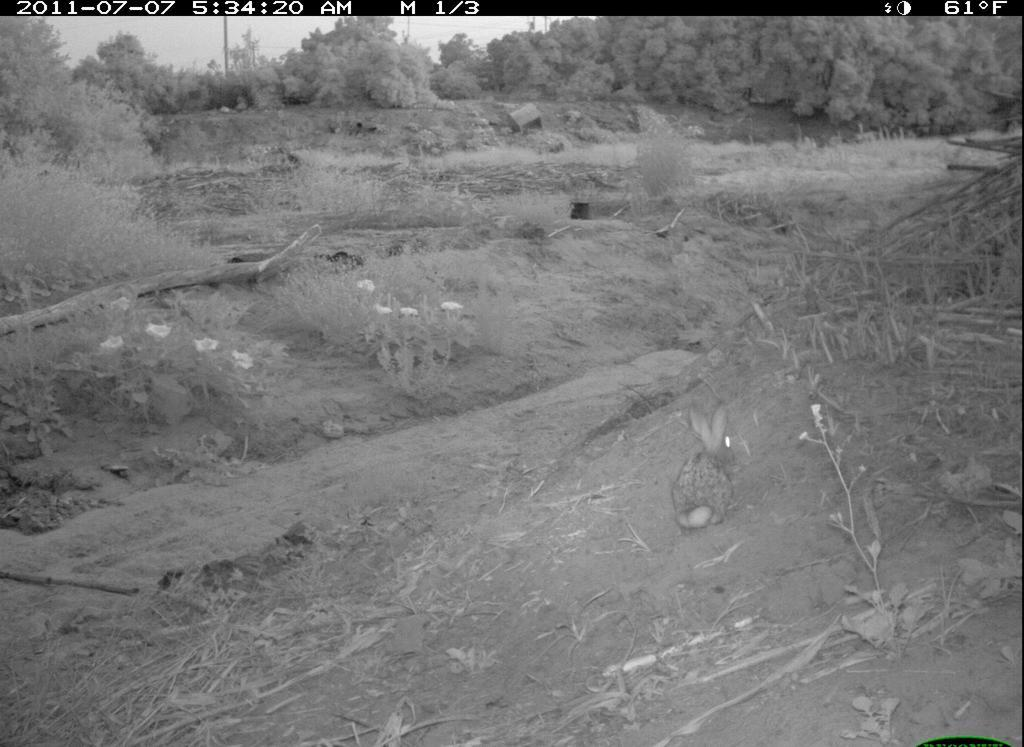rabbit: (662, 392, 763, 553)
